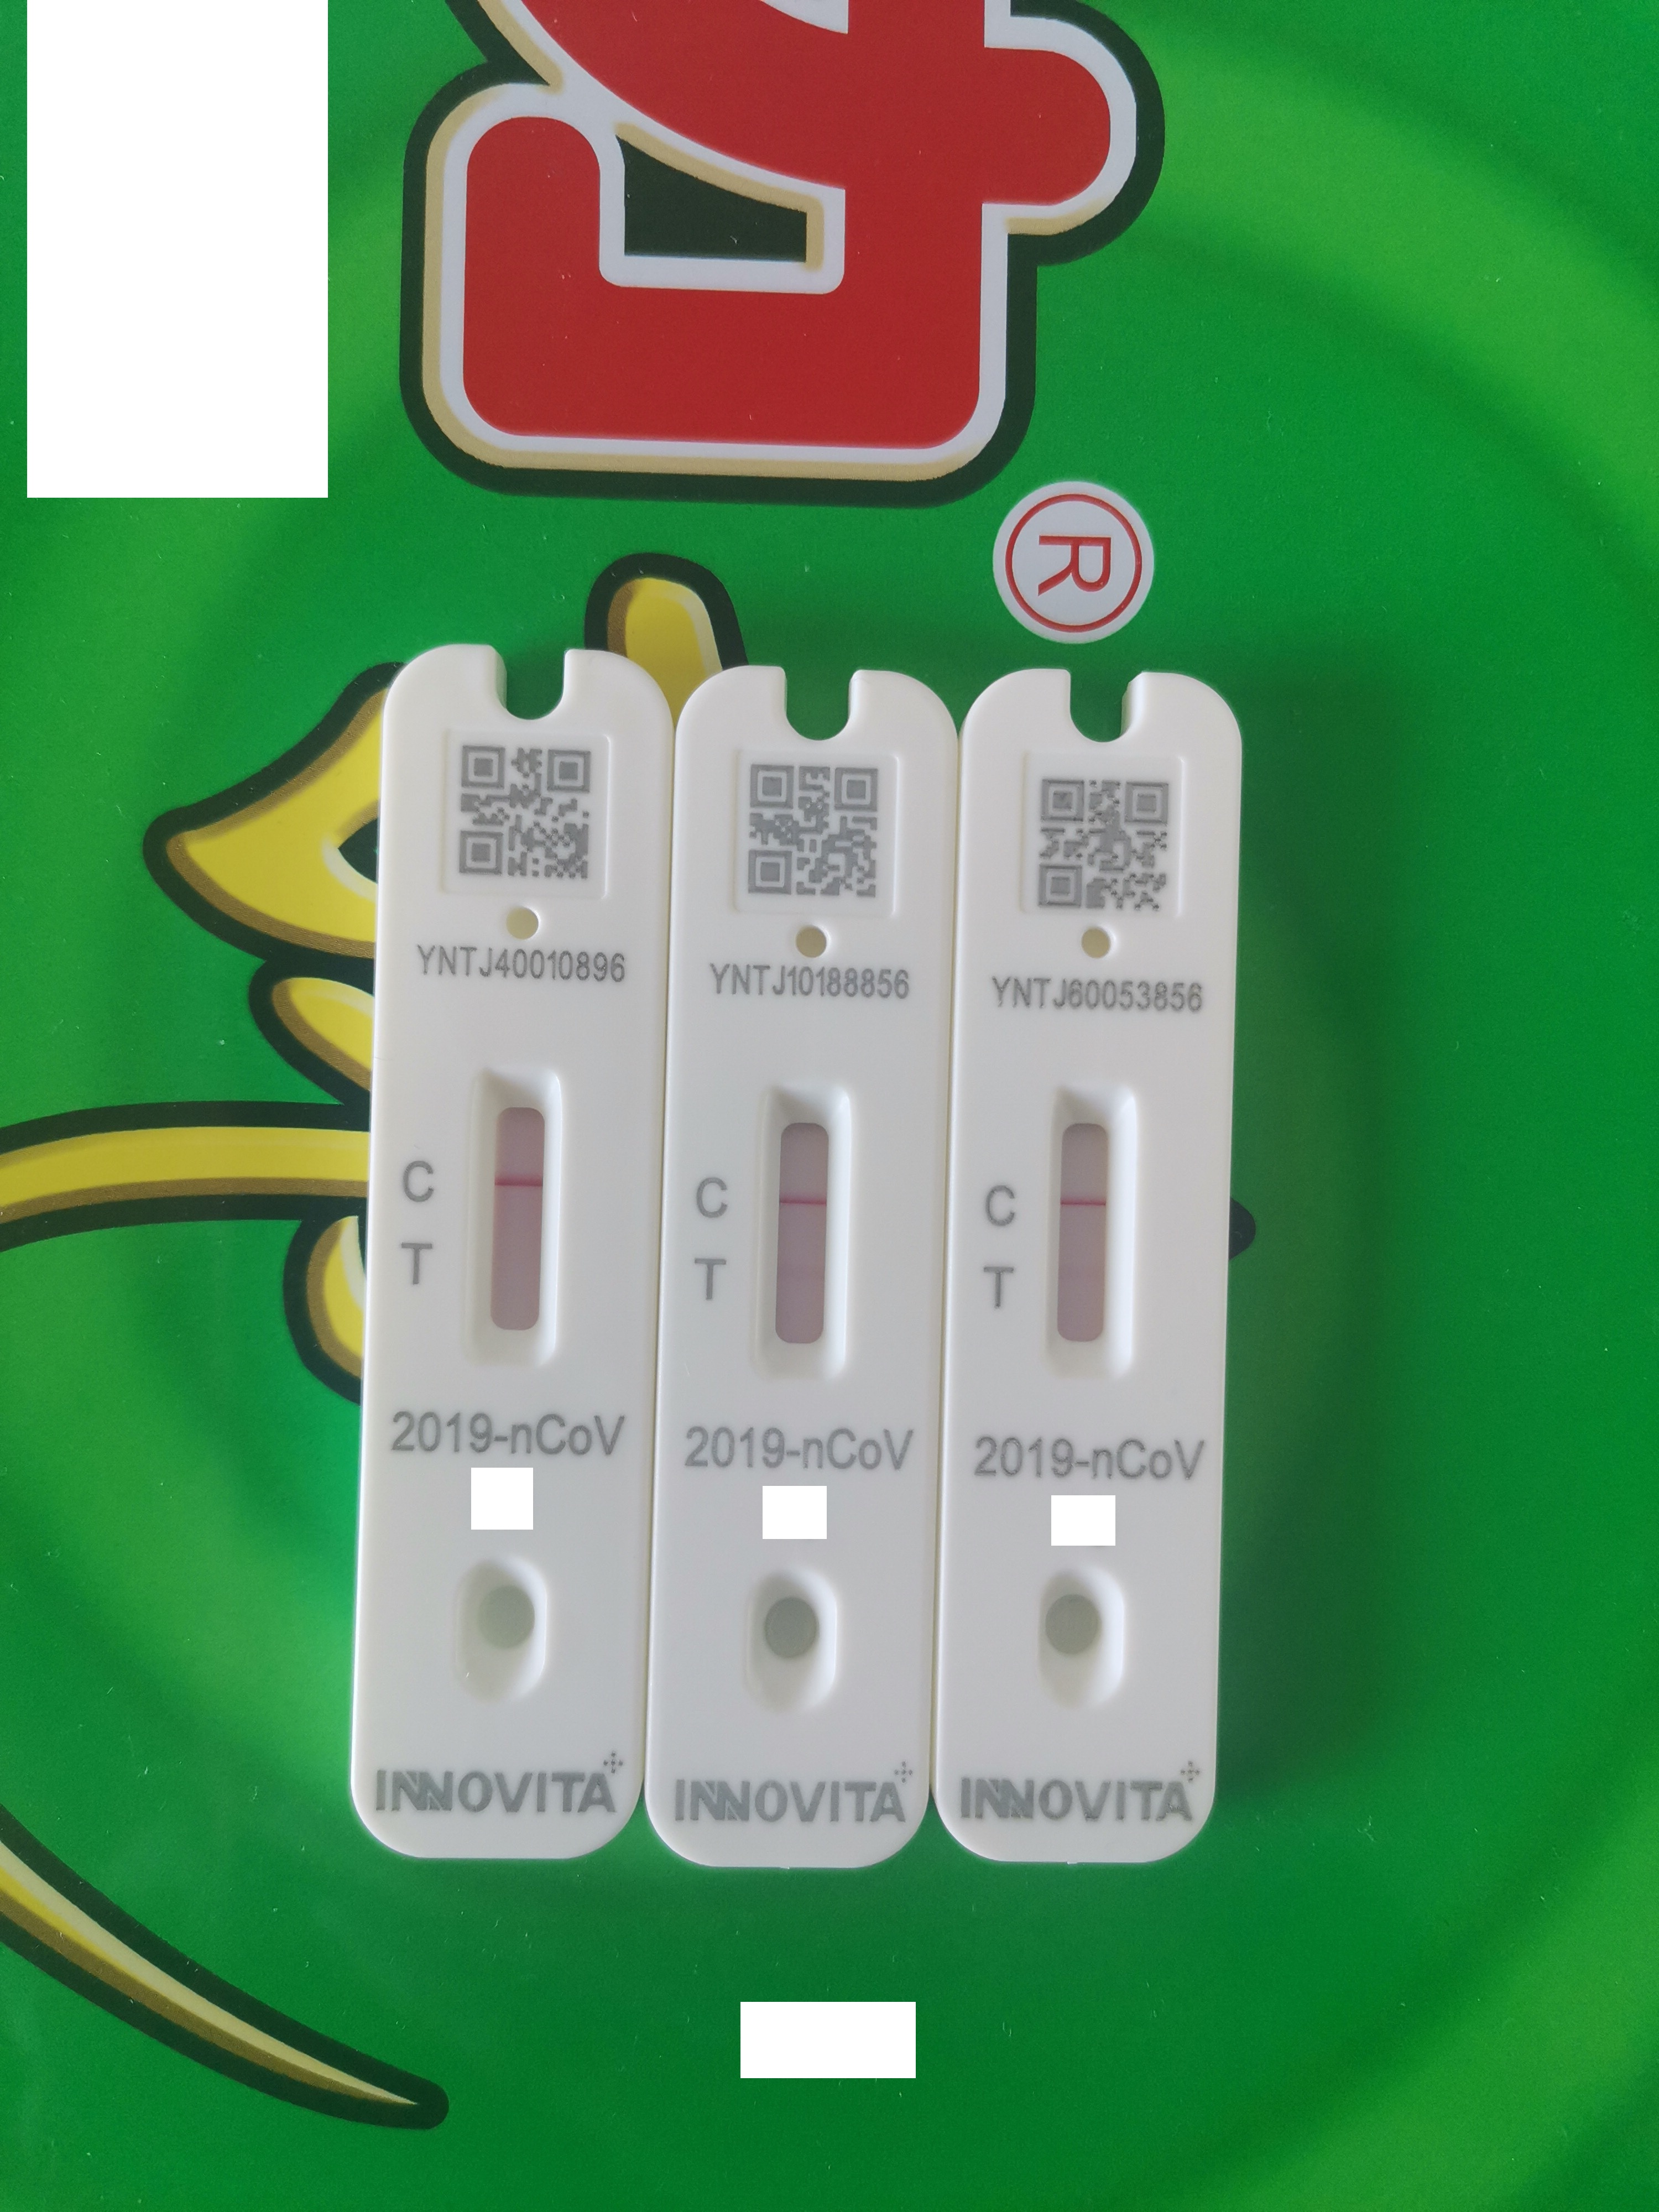negative: (751, 1082, 856, 1376), (1042, 1083, 1140, 1374), (467, 1073, 565, 1359)
